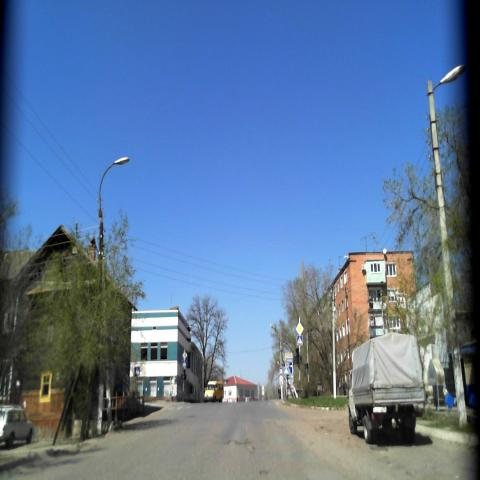2_1: (296, 323, 304, 336)
5_19_1: (297, 335, 303, 345), (181, 358, 187, 368)
